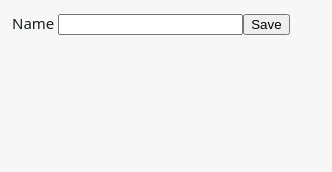
Scenario: controlled vs uncontrolled inputs › controlled: validates on every keystroke
The width and height of the screenshot is (332, 172).
Later steps or results of the test are not shown.
Step 1. Type "Bartholomew" into the field labelled "Name" → (151, 24), box [58,14,243,35]
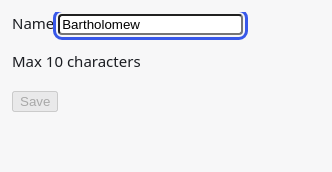
Check: the button "Save" is disabled, box [12,90,58,112]
